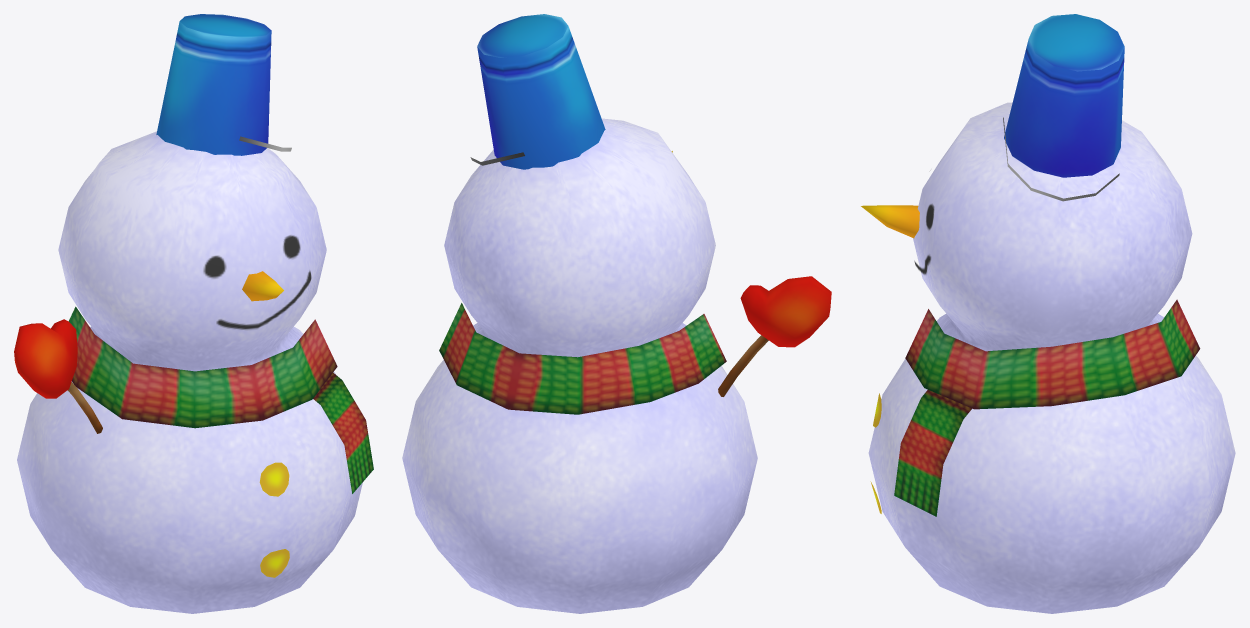
Rendered from Yukidaruma_L.glb.
3 views of the same model, side by side, from view 1: azimuth 30°, elevation 25°; view 2: azimuth 150°, elevation 25°; view 3: azimuth 270°, elevation 25° (orthographic). The views are drawn at different scales.
Parts seen in each view (by area): view 1: PQ_Ch_Yukidaruma_L(Clone); view 2: PQ_Ch_Yukidaruma_L(Clone); view 3: PQ_Ch_Yukidaruma_L(Clone).
Boxes of the visible parts, bbox=[...] form: PQ_Ch_Yukidaruma_L(Clone): bbox=[14, 14, 373, 613]; PQ_Ch_Yukidaruma_L(Clone): bbox=[402, 14, 831, 613]; PQ_Ch_Yukidaruma_L(Clone): bbox=[861, 14, 1235, 613].
Size of the model in its own units: 1.1 by 1.53 by 0.9379.
2 materials, 2 textured.
